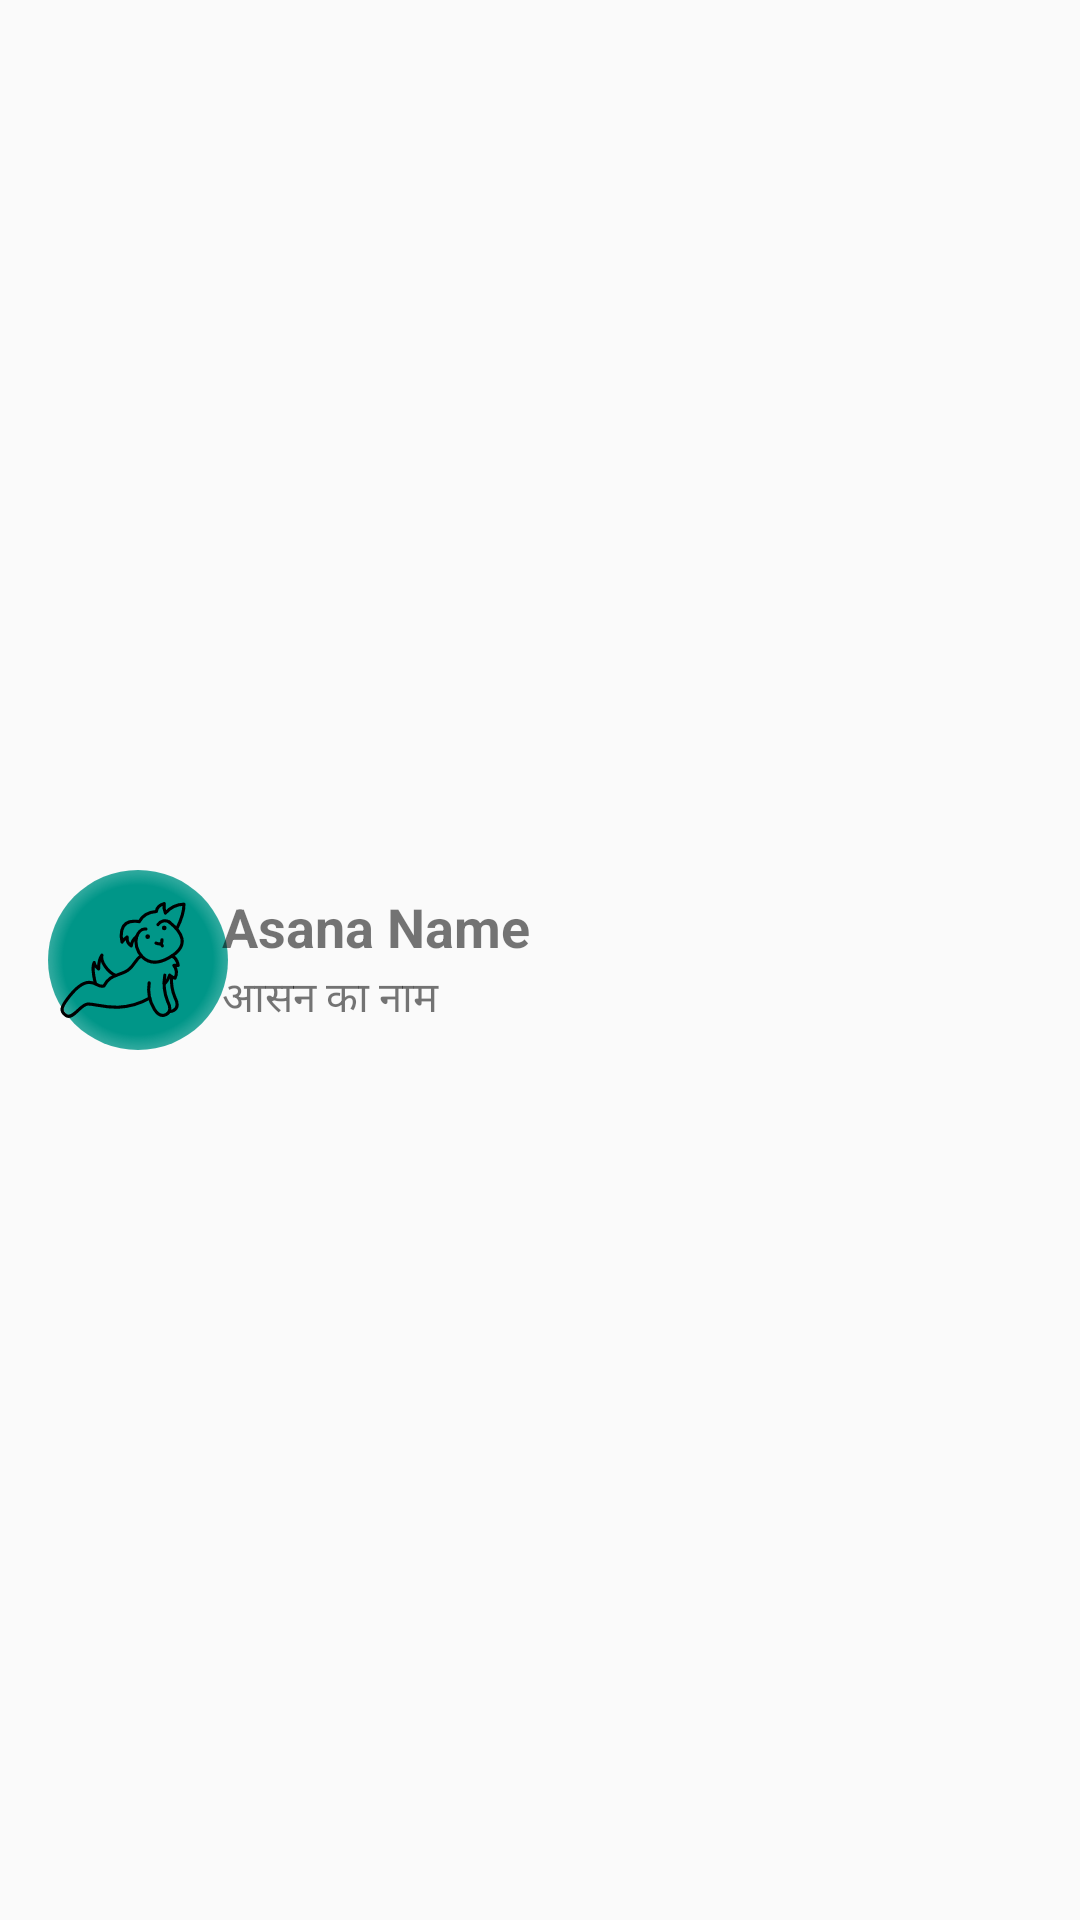

Point at icon controls on the screen. Image size 1080x1920, points as (x,y).
yoga: (123,960)
